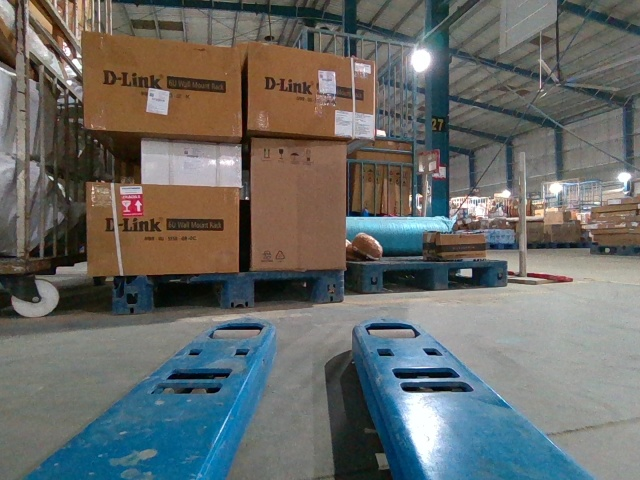pallet: (116, 269, 345, 311)
